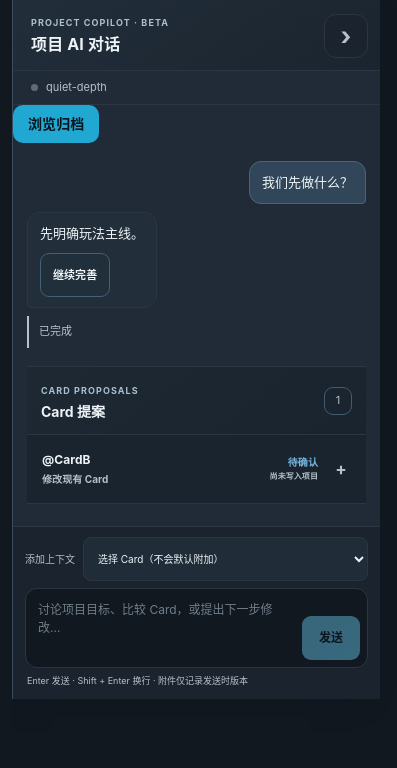
ProjectConversationDrawer › 预览 update 时先刷新提案，再定位 Card 并通知 App 打开编辑器
Click the button "@CardB 修改现有 Card 待确认 尚未写入项目 +". click: (72, 459)
box: [27,435,366,503]
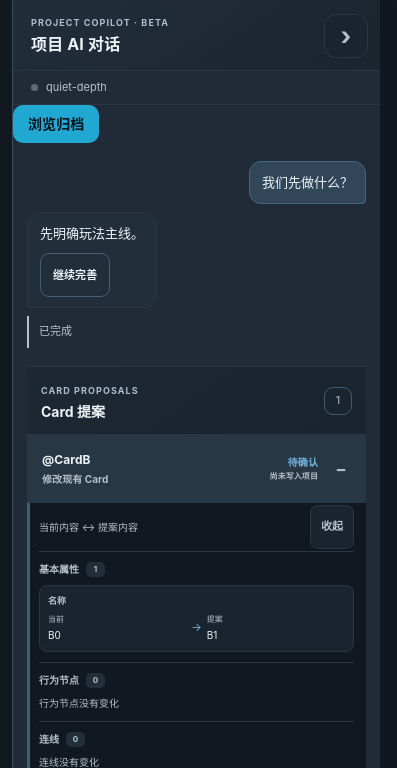
Expected: the text "当前内容 ↔ 提案内容" is shown, [39,520,138,534]
